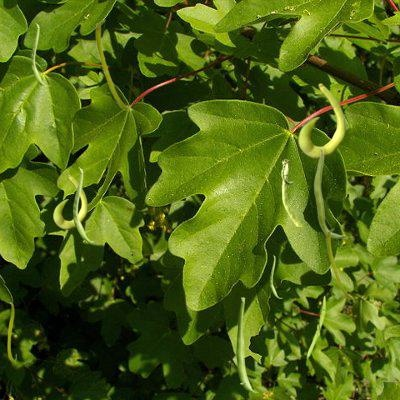french_bean: (298, 83, 344, 157), (95, 19, 129, 109), (313, 148, 347, 238), (236, 297, 257, 391), (326, 228, 352, 298), (53, 174, 86, 228), (73, 167, 95, 241), (306, 294, 325, 364), (281, 159, 301, 225), (31, 23, 49, 85), (7, 302, 15, 360), (270, 255, 281, 297)
